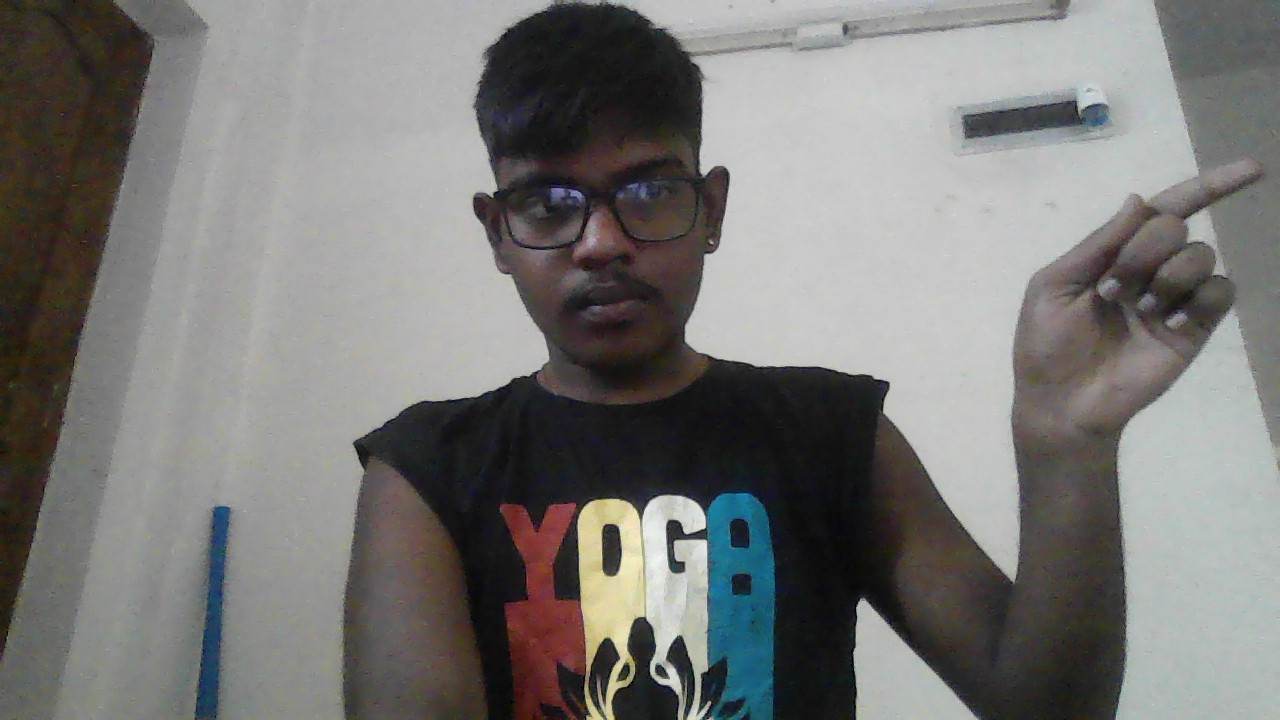G: (1012, 157, 1259, 442)
